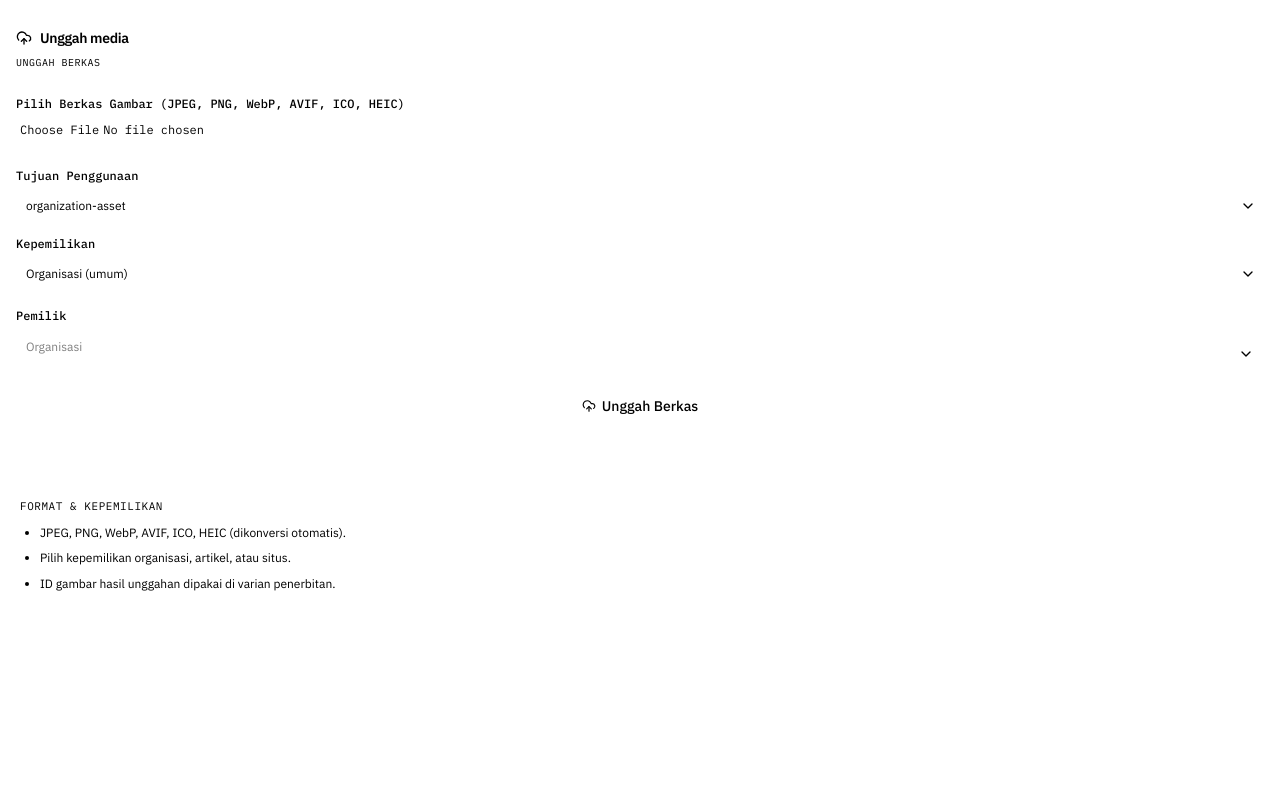
Formulir unggah media › menampilkan opsi pemilik dari artikel dan situs
This screenshot has width=1280, height=800.
Click the dropdown labelled "Pemilik": (640, 346) [16, 330, 1264, 362]
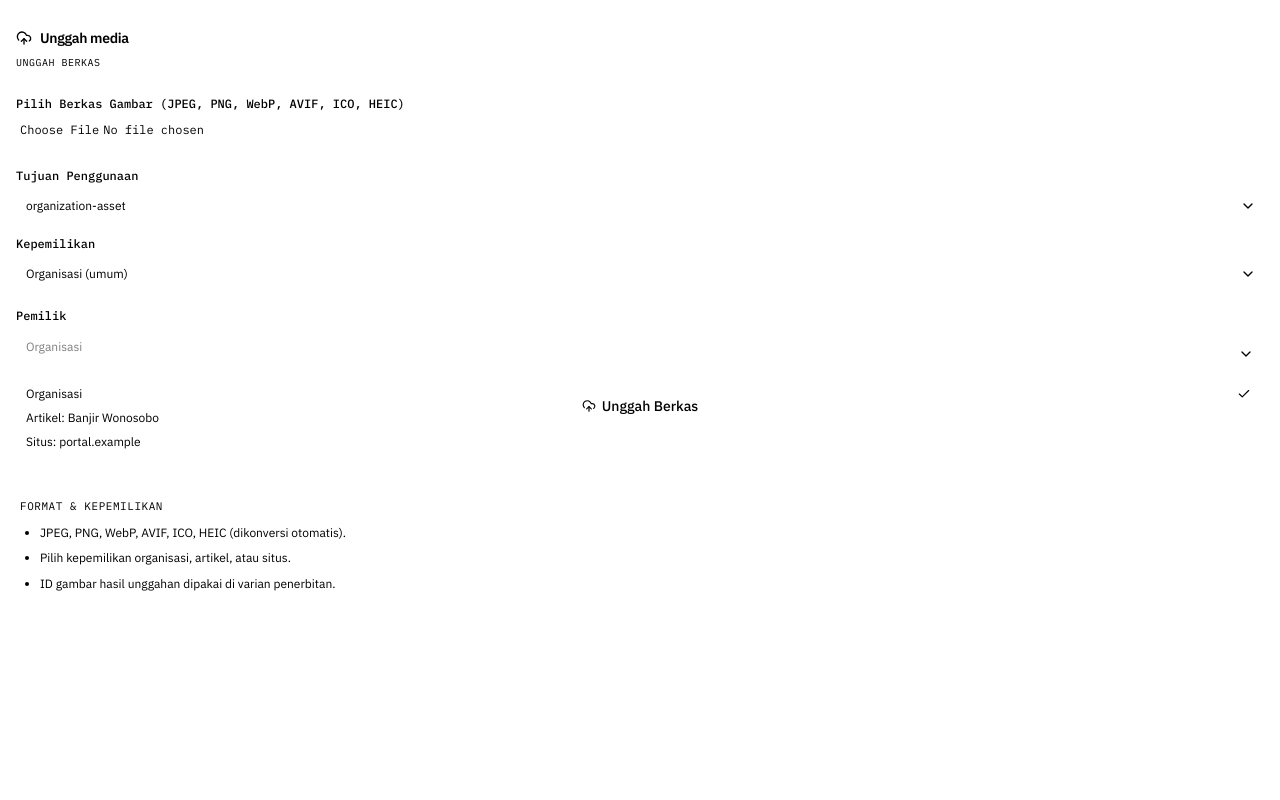
Expected: the option "Organisasi" is shown, [20, 382, 1260, 406]
Expected: the option "Artikel: Banjir Wonosobo" is shown, [26, 410, 159, 425]
Expected: the option "Situs: portal.example" is shown, [26, 434, 141, 449]
